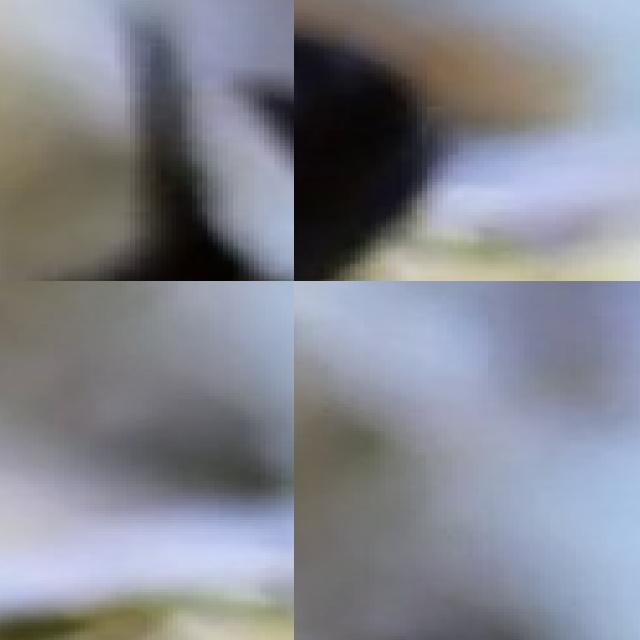fish: (0, 0, 294, 281), (294, 281, 395, 640)
